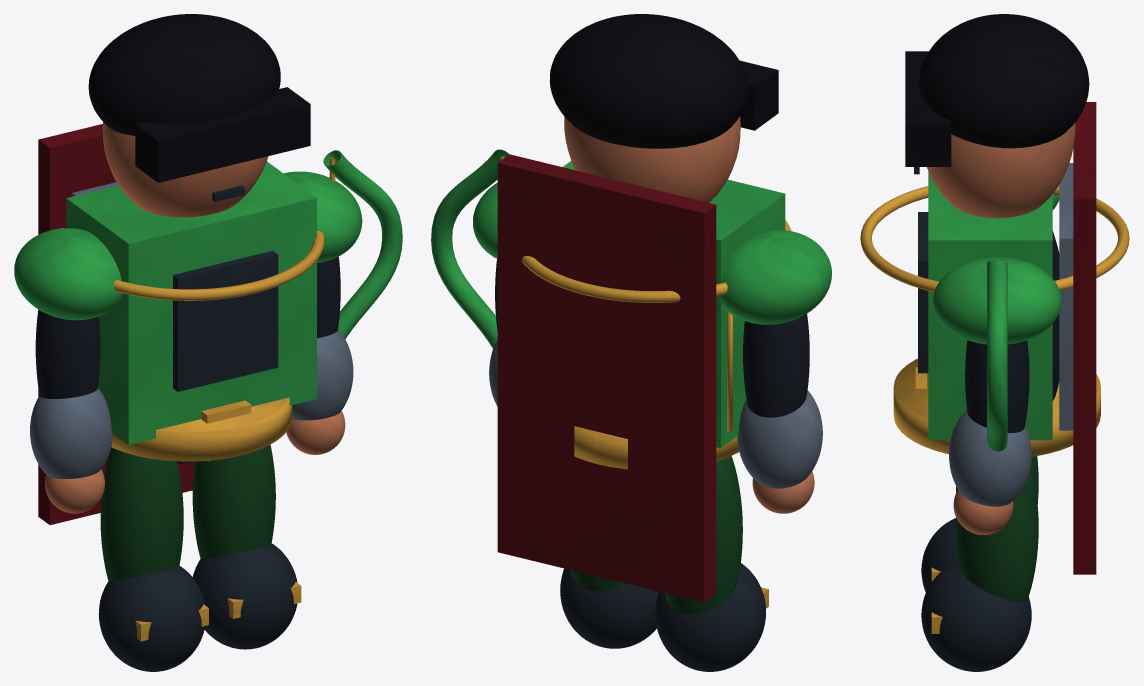
Rendered from Advanced.glb.
3 views of the same model, side by side, from view 1: azimuth 30°, elevation 25°; view 2: azimuth 150°, elevation 25°; view 3: azimuth 270°, elevation 25° (orthographic). The views are drawn at different scales.
Visible parts, largest first — view 1: ChestPlate, Hair, ChestInset, HairFringe, Leg, Boot, Boot.001, Leg.001, Shoulder, Cape, Head, Gauntlet (+10 smaller); view 2: Cape, Hair, Shoulder, Head, ChestPlate, Boot, Arm, Gauntlet, Boot.001, Bow, Leg, ShoulderCrest (+6 smaller); view 3: Hair, ChestPlate, Cape, Head, Boot.001, Shoulder.001, Leg.001, Gauntlet.001, Bow, WaistGuard, BackArmor, Arm.001 (+6 smaller).
Boxes of the visible parts, x1=… form: ChestPlate: x1=66, y1=161, x2=316, y2=444; Hair: x1=88, y1=14, x2=280, y2=135; ChestInset: x1=173, y1=250, x2=278, y2=391; HairFringe: x1=135, y1=87, x2=310, y2=182; Leg: x1=100, y1=447, x2=183, y2=581; Boot: x1=98, y1=566, x2=205, y2=671; Boot.001: x1=192, y1=543, x2=297, y2=649; Leg.001: x1=192, y1=444, x2=275, y2=558; Shoulder: x1=14, y1=228, x2=122, y2=320; Cape: x1=38, y1=124, x2=194, y2=524; Head: x1=102, y1=122, x2=268, y2=217; Gauntlet: x1=30, y1=388, x2=112, y2=478; Cape: x1=497, y1=154, x2=716, y2=602; Hair: x1=549, y1=14, x2=747, y2=148; Shoulder: x1=718, y1=229, x2=831, y2=324; Head: x1=564, y1=116, x2=740, y2=202; ChestPlate: x1=562, y1=161, x2=785, y2=448; Boot: x1=655, y1=563, x2=765, y2=671; Arm: x1=743, y1=314, x2=809, y2=417; Gauntlet: x1=737, y1=390, x2=822, y2=488; Boot.001: x1=560, y1=568, x2=658, y2=648; Bow: x1=431, y1=149, x2=509, y2=348; Leg: x1=665, y1=456, x2=742, y2=614; ShoulderCrest: x1=521, y1=220, x2=791, y2=302; Hair: x1=919, y1=14, x2=1089, y2=148; ChestPlate: x1=928, y1=171, x2=1052, y2=440; Cape: x1=1073, y1=102, x2=1096, y2=574; Head: x1=927, y1=123, x2=1075, y2=218; Boot.001: x1=921, y1=562, x2=1031, y2=671; Shoulder.001: x1=933, y1=257, x2=1061, y2=344; Leg.001: x1=956, y1=467, x2=1038, y2=602; Gauntlet.001: x1=949, y1=410, x2=1031, y2=506; Bow: x1=987, y1=261, x2=1007, y2=451; WaistGuard: x1=893, y1=358, x2=1100, y2=456; BackArmor: x1=1059, y1=163, x2=1073, y2=430; Arm.001: x1=965, y1=340, x2=1029, y2=432.
Size of the model in its own units: 1.88 by 2.96 by 1.17.
11 materials, 9 textured.
